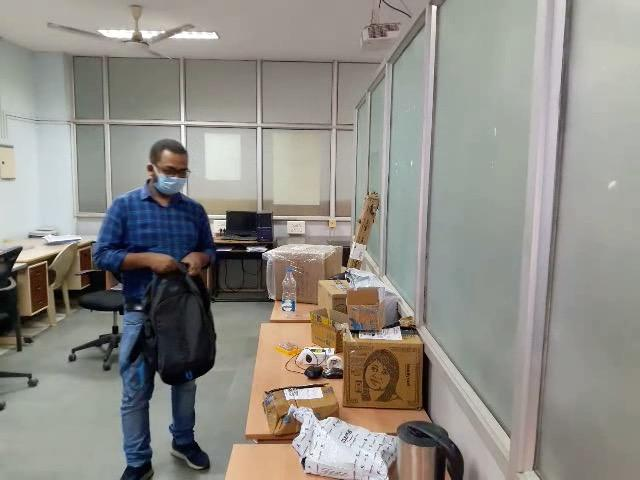shoplifting: (92, 225, 239, 428)
